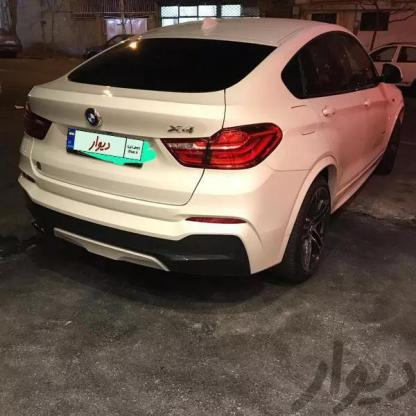Car: (12, 15, 393, 284)
